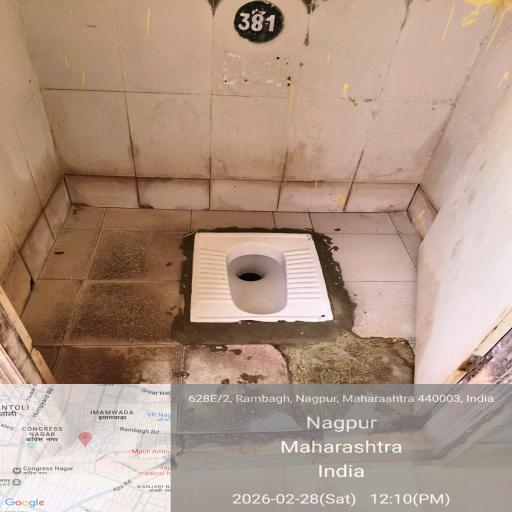clean_indian: (180, 222, 366, 340)
dirty_floor: (17, 201, 497, 492), (44, 20, 445, 224)
